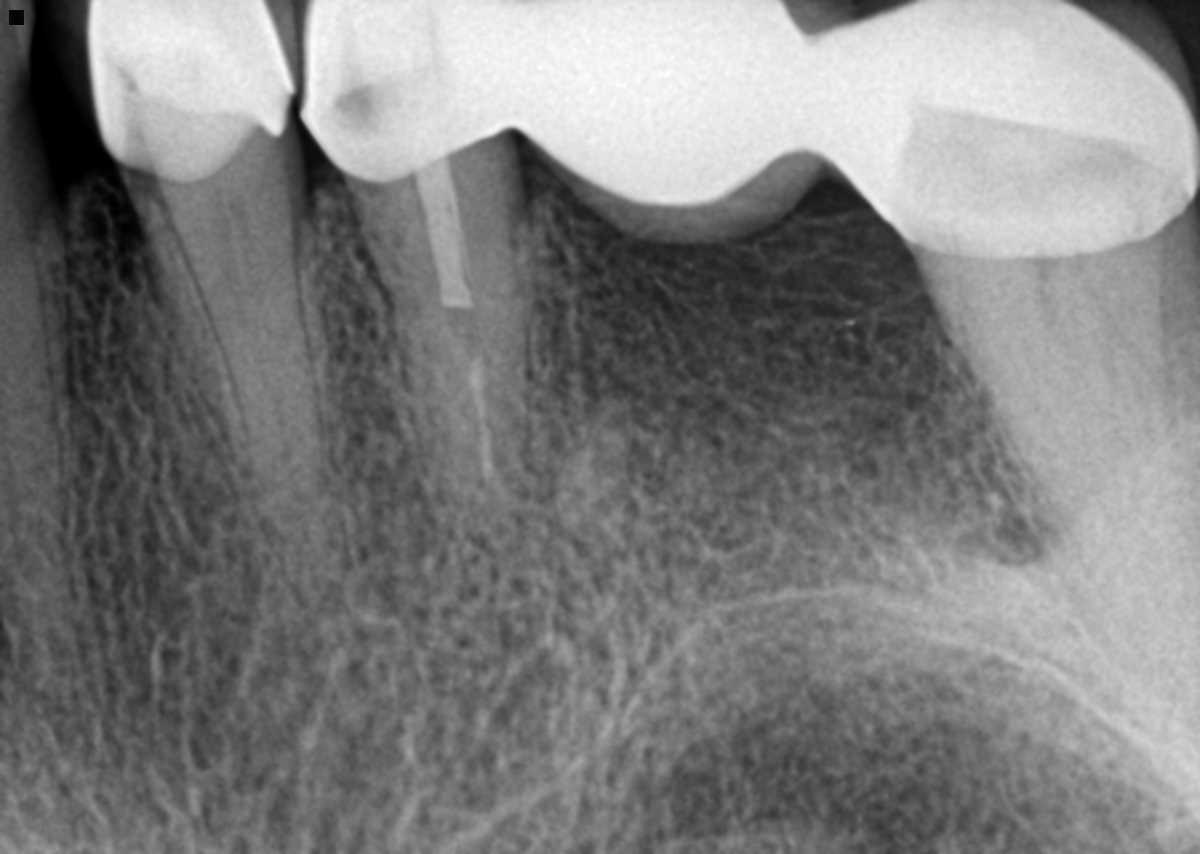Main Root: (918, 220, 1200, 650), (129, 147, 334, 592), (356, 196, 531, 549), (0, 231, 87, 707)
Root Canal Filling: (466, 357, 494, 495)
